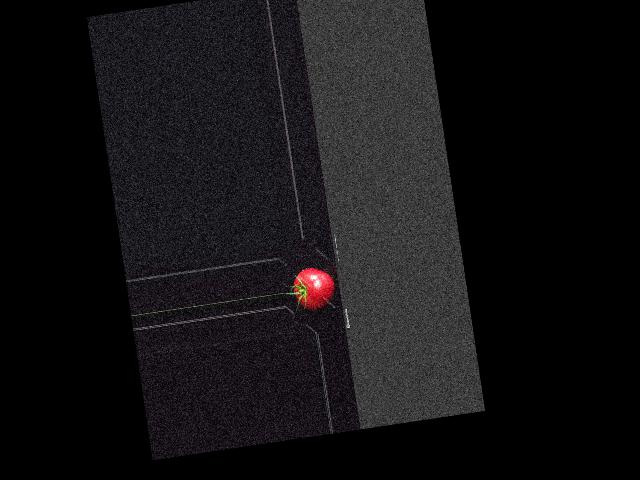tomato: (291, 264, 337, 312)
